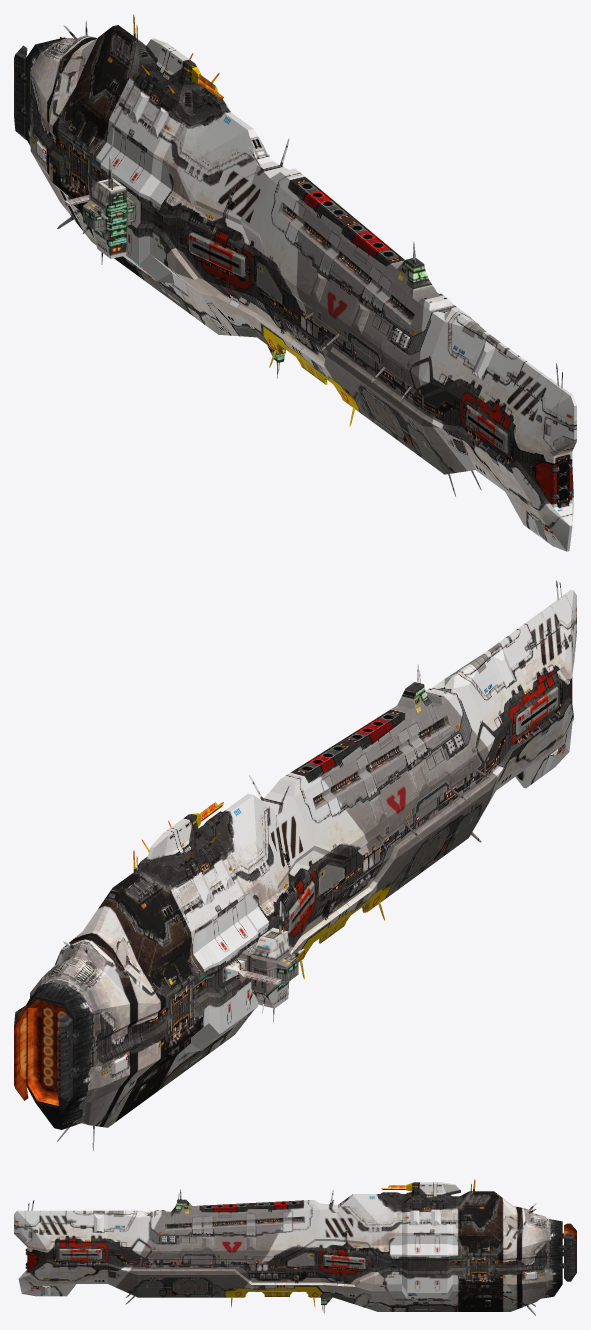
File: vgr-battlecruiser.glb
3 views of the same model, one above another, from view 1: azimuth 30°, elevation 25°; view 2: azimuth 150°, elevation 25°; view 3: azimuth 270°, elevation 25° (orthographic). The views are drawn at different scales.
Visible parts, largest first — view 1: Object_8, Object_10, Object_4, Object_9, Object_3, Object_11, Object_5, Object_7, Object_2; view 2: Object_8, Object_10, Object_4, Object_3, Object_12, Object_9, Object_11, Object_5, Object_7, Object_13, Object_2; view 3: Object_8, Object_10, Object_4, Object_9, Object_5, Object_11, Object_6, Object_2.
Boxes of the visible parts, box(x1,y1,x2,y2) form: Object_8: box(25, 25, 414, 384); Object_10: box(145, 38, 486, 474); Object_4: box(248, 129, 576, 551); Object_9: box(21, 73, 562, 388); Object_3: box(65, 178, 140, 258); Object_11: box(57, 14, 481, 496); Object_5: box(466, 341, 571, 542); Object_7: box(14, 45, 27, 140); Object_2: box(323, 282, 350, 331); Object_8: box(26, 715, 526, 1129); Object_10: box(145, 653, 513, 961); Object_4: box(261, 590, 576, 808); Object_3: box(222, 927, 298, 1008); Object_12: box(27, 1000, 70, 1105); Object_9: box(26, 580, 562, 1100); Object_11: box(57, 733, 490, 1150); Object_5: box(493, 649, 558, 776); Object_7: box(58, 1013, 72, 1109); Object_13: box(14, 1005, 28, 1100); Object_2: box(383, 777, 410, 826); Object_8: box(164, 1191, 562, 1311); Object_10: box(107, 1182, 460, 1297); Object_4: box(14, 1194, 352, 1296); Object_9: box(27, 1189, 564, 1313); Object_5: box(25, 1214, 104, 1296); Object_11: box(125, 1179, 536, 1315); Object_6: box(564, 1233, 576, 1281); Object_2: box(222, 1237, 241, 1256).
Bounding box in the file's own units: 191 × 283 × 1072.
13 materials, 13 textured.
